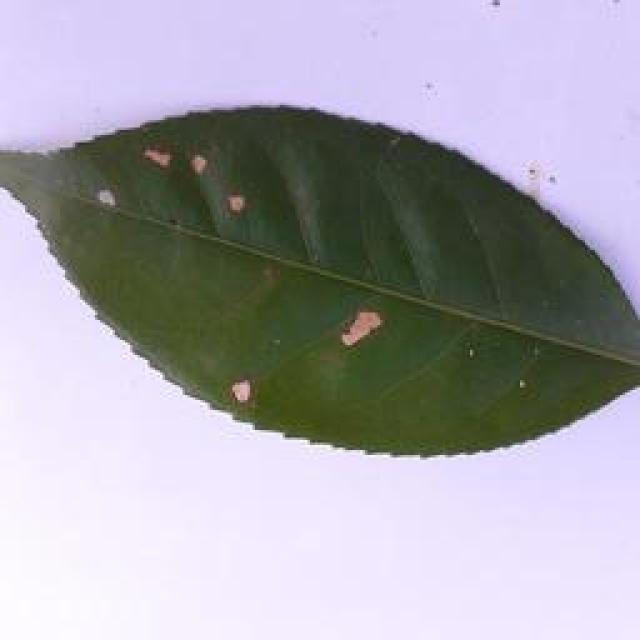Gray Blight: (0, 99, 640, 468)
